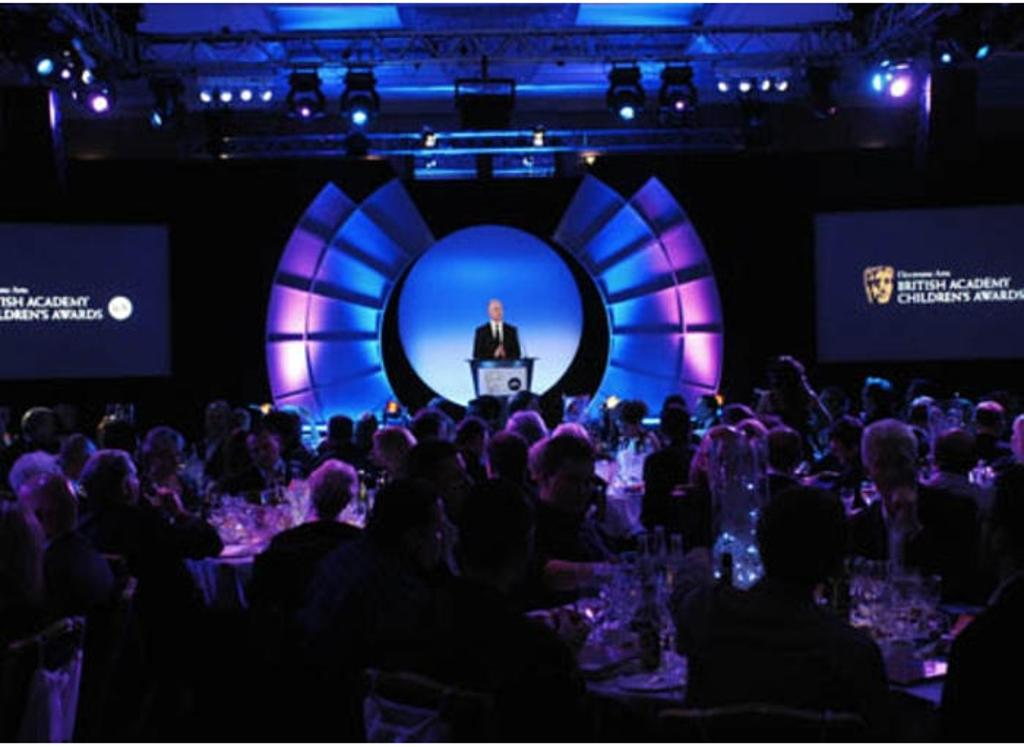face: (488, 302, 501, 320)
